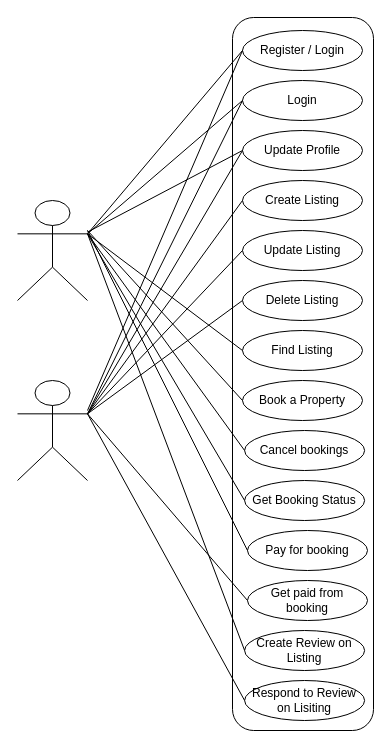
The diagram is 391 pixels wide and 748 high, and some of its shapes have lost their labels. The box of each missing label's shape, as (x1, y1, x2, y2) in pixels:
Guest: (16, 200, 88, 300)
Host: (16, 380, 88, 480)
